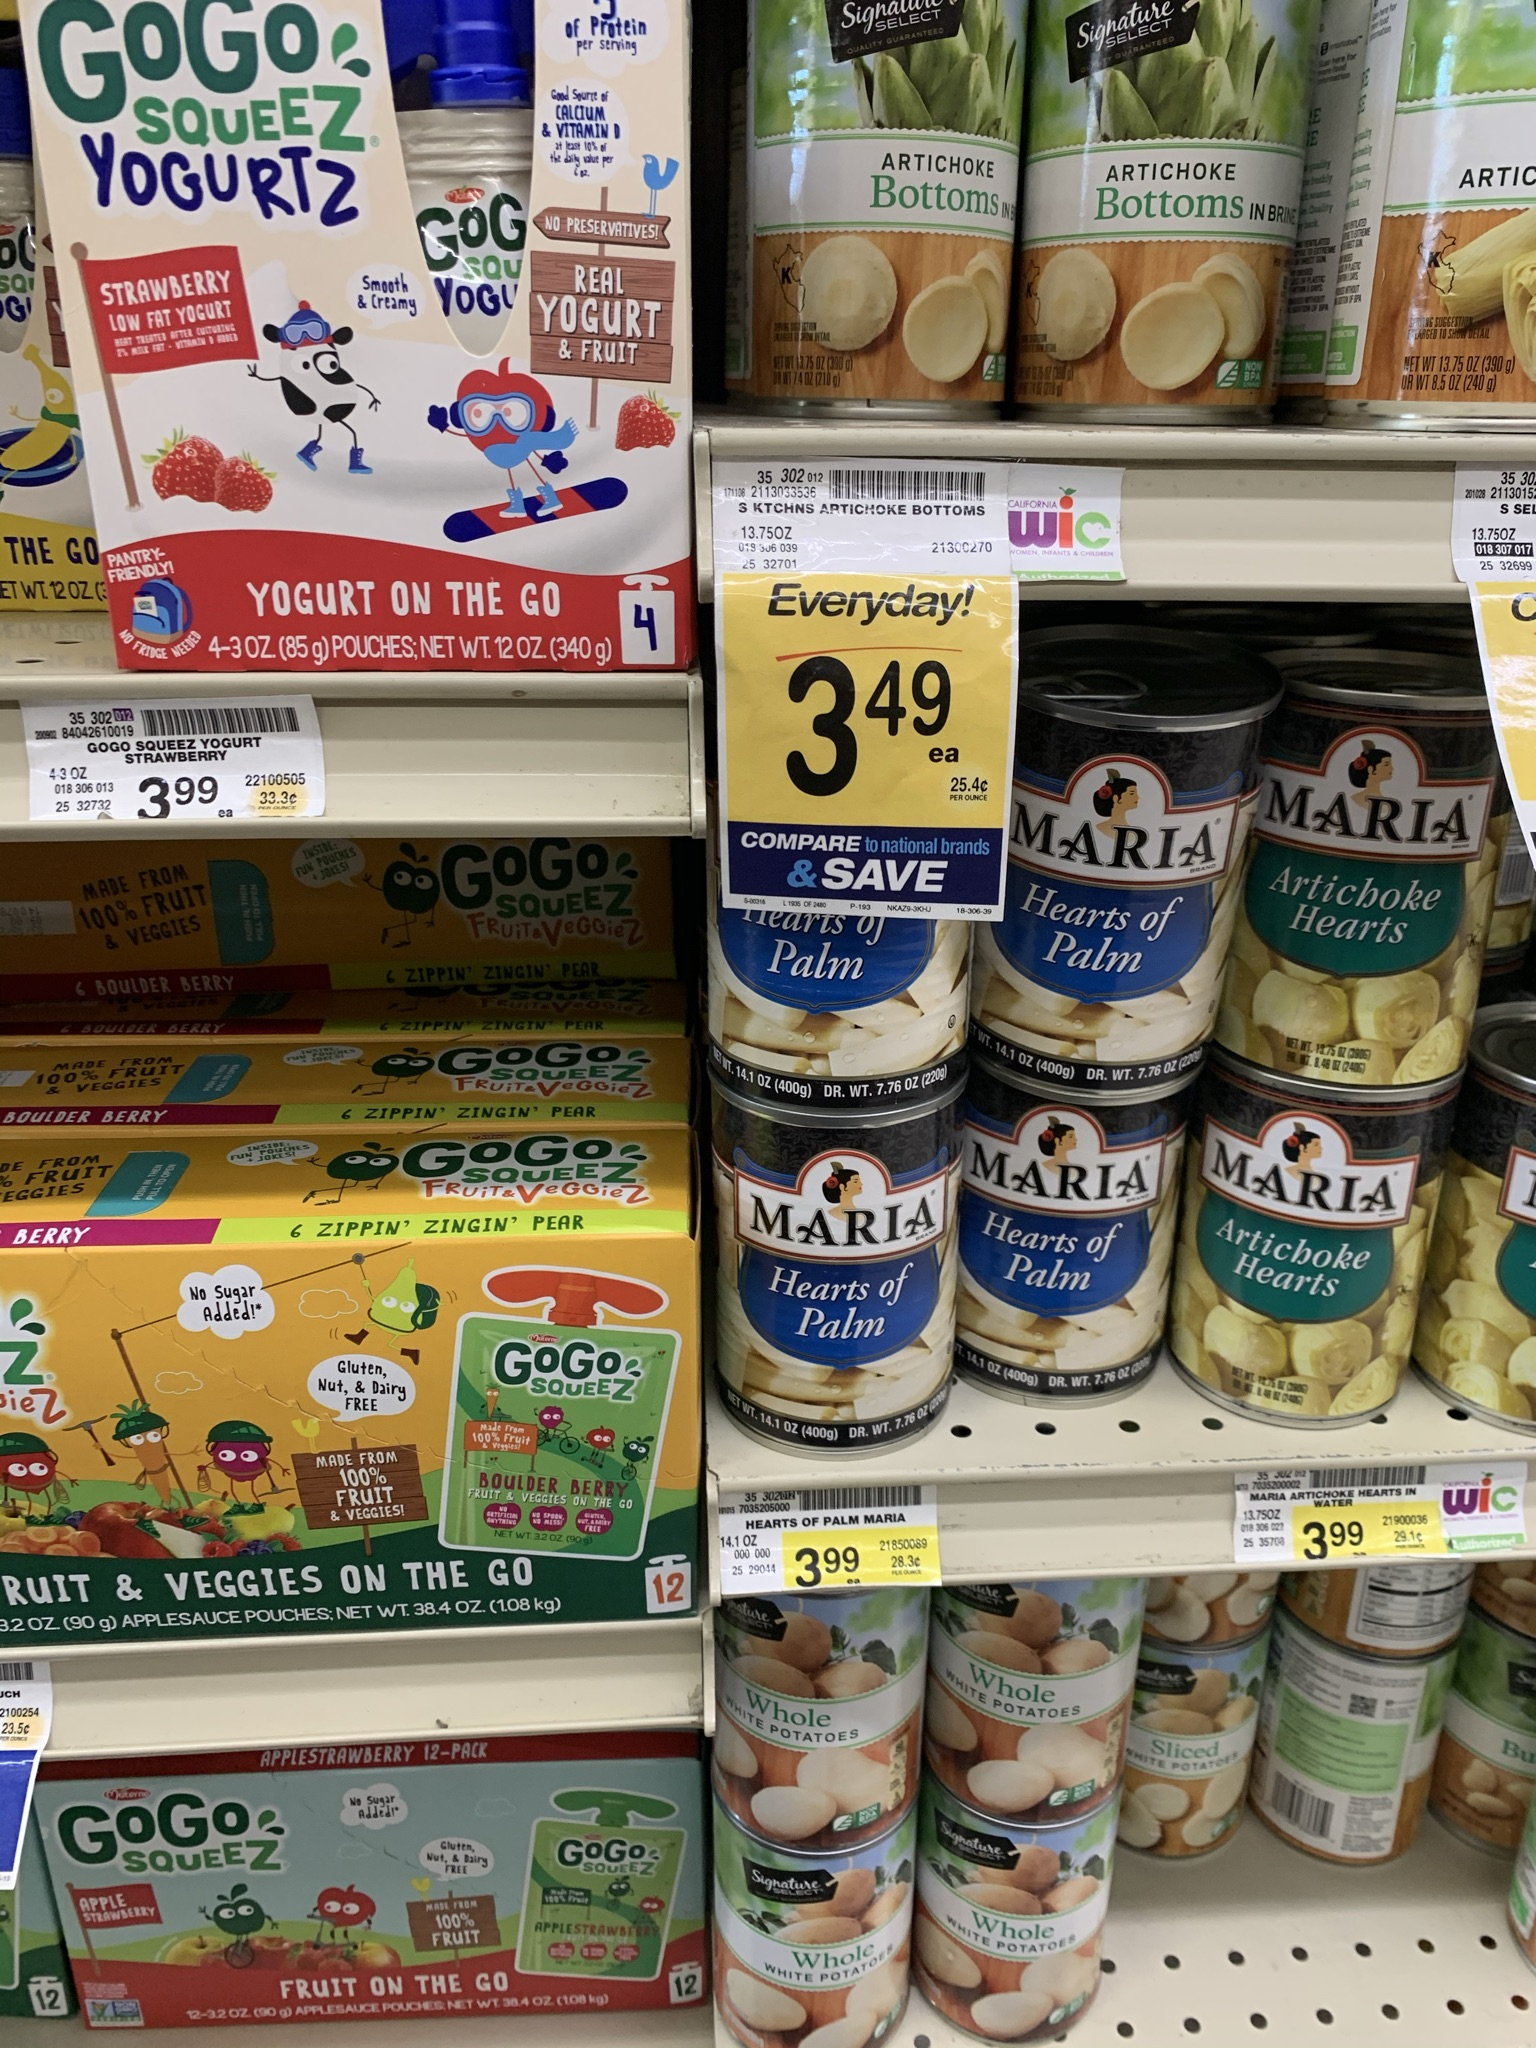box: (115, 5, 691, 666), (5, 1232, 700, 1630)
can: (726, 2, 1016, 418), (984, 710, 1244, 1089), (1028, 3, 1275, 397), (1263, 692, 1468, 1061), (712, 1105, 945, 1409), (1334, 15, 1517, 405), (970, 1085, 1181, 1411), (1205, 1100, 1417, 1409), (718, 1600, 928, 1854), (983, 1113, 1160, 1385), (936, 1587, 1129, 1825), (712, 1830, 912, 2048), (926, 1824, 1108, 2048), (1292, 1646, 1421, 1858), (1149, 1667, 1241, 1840)
